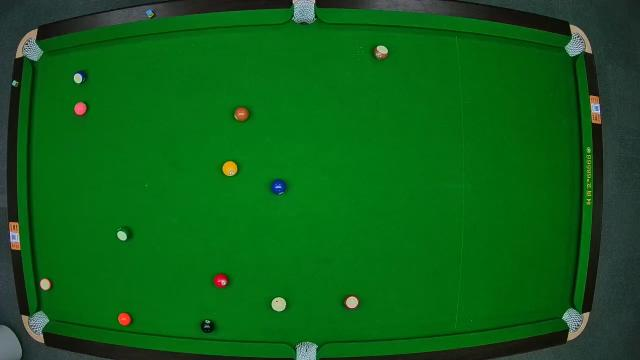bag1: (21, 38, 41, 60)
bag2: (292, 1, 318, 25)
bag3: (565, 32, 587, 56)
bag4: (28, 310, 48, 332)
bag5: (294, 340, 320, 360)
bag6: (563, 309, 585, 331)
ball0: (270, 298, 286, 312)
ball1: (221, 160, 239, 176)
ball10: (73, 70, 87, 84)
ball11: (344, 294, 361, 310)
ball12: (39, 276, 53, 292)
ball14: (115, 226, 132, 242)
ball15: (372, 46, 388, 61)
ball2: (271, 179, 287, 195)
ball3: (214, 274, 228, 288)
ball4: (74, 102, 88, 116)
ball5: (118, 311, 132, 327)
ball7: (234, 107, 250, 123)
ball8: (200, 318, 216, 334)
